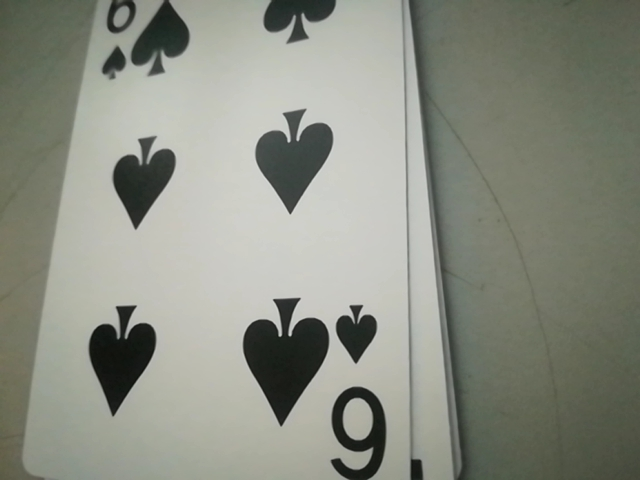ht 6: (323, 304, 391, 477)
